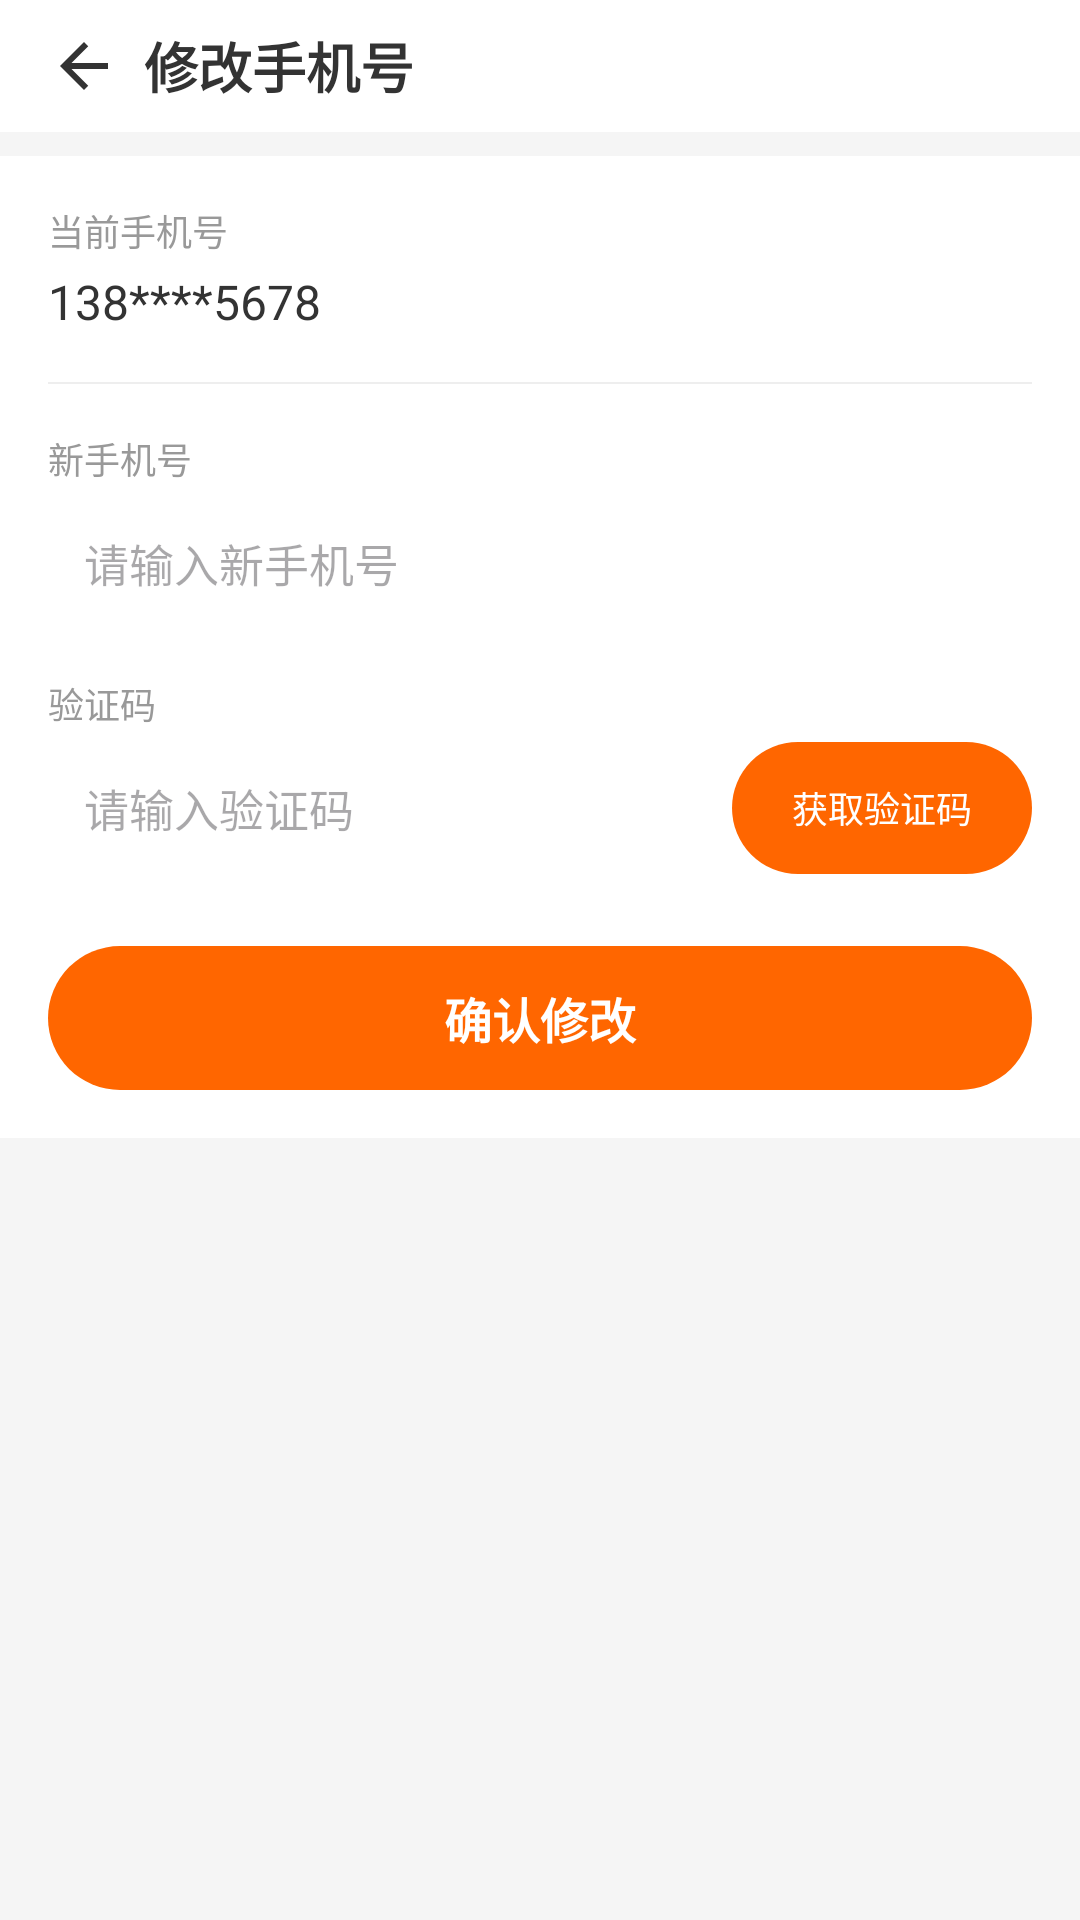

Icon click points for this 1080*1920 phone screenshot, format [x,y]:
arrow back: [84,66]
